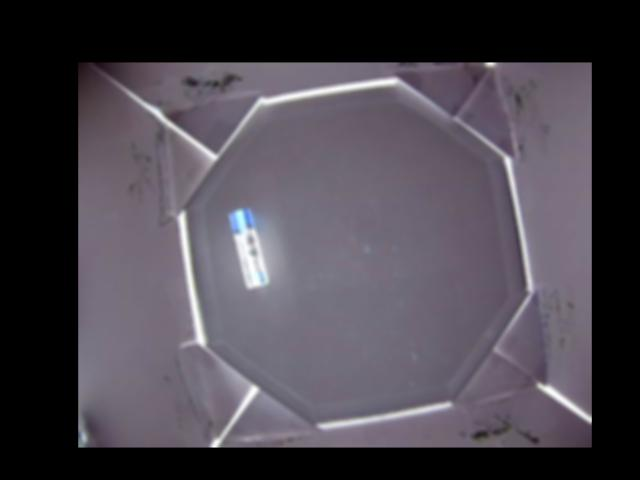Battery: (227, 209, 270, 289)
